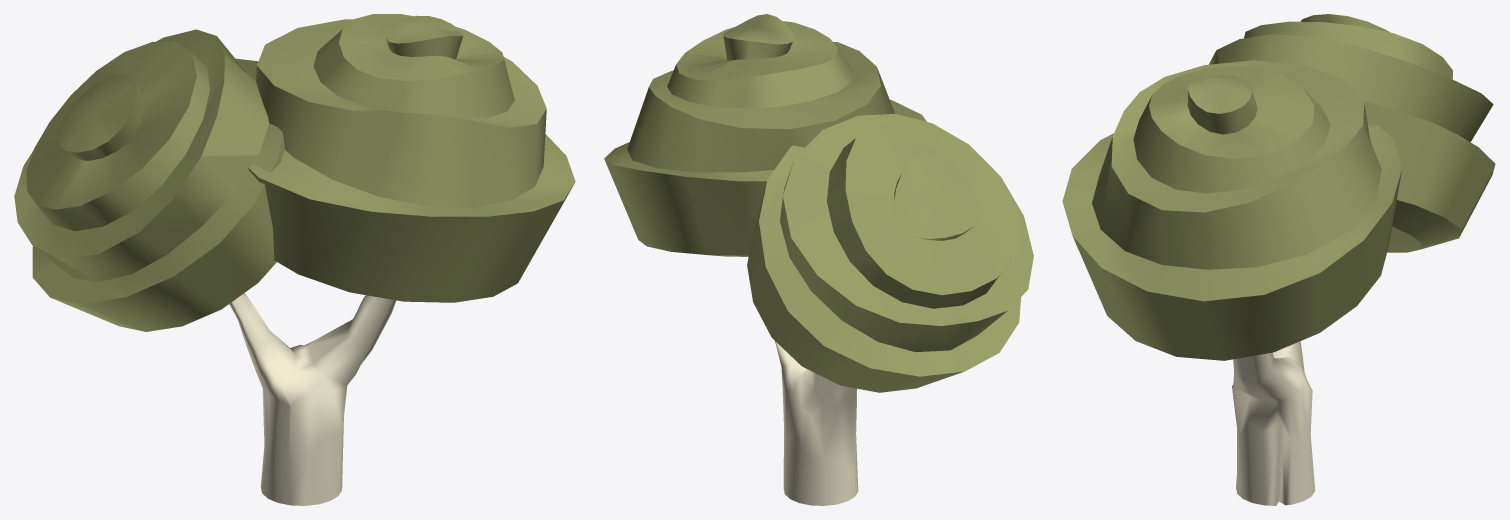
File: tree1.fbx
3 views of the same model, side by side, from view 1: azimuth 30°, elevation 25°; view 2: azimuth 150°, elevation 25°; view 3: azimuth 270°, elevation 25° (orthographic). The views are drawn at different scales.
Parts seen in each view (by area): view 1: Crown2_1, TreeRose2; view 2: Crown2_1, TreeRose2; view 3: Crown2_1, TreeRose2.
Part boxes in pixels (x1=…): Crown2_1: x1=14, y1=14, x2=575, y2=331; TreeRose2: x1=229, y1=293, x2=396, y2=505; Crown2_1: x1=604, y1=14, x2=1033, y2=392; TreeRose2: x1=775, y1=341, x2=858, y2=505; Crown2_1: x1=1062, y1=14, x2=1495, y2=360; TreeRose2: x1=1232, y1=341, x2=1315, y2=505.
Bounding box in the file's own units: 14.59 × 13.76 × 12.01.
